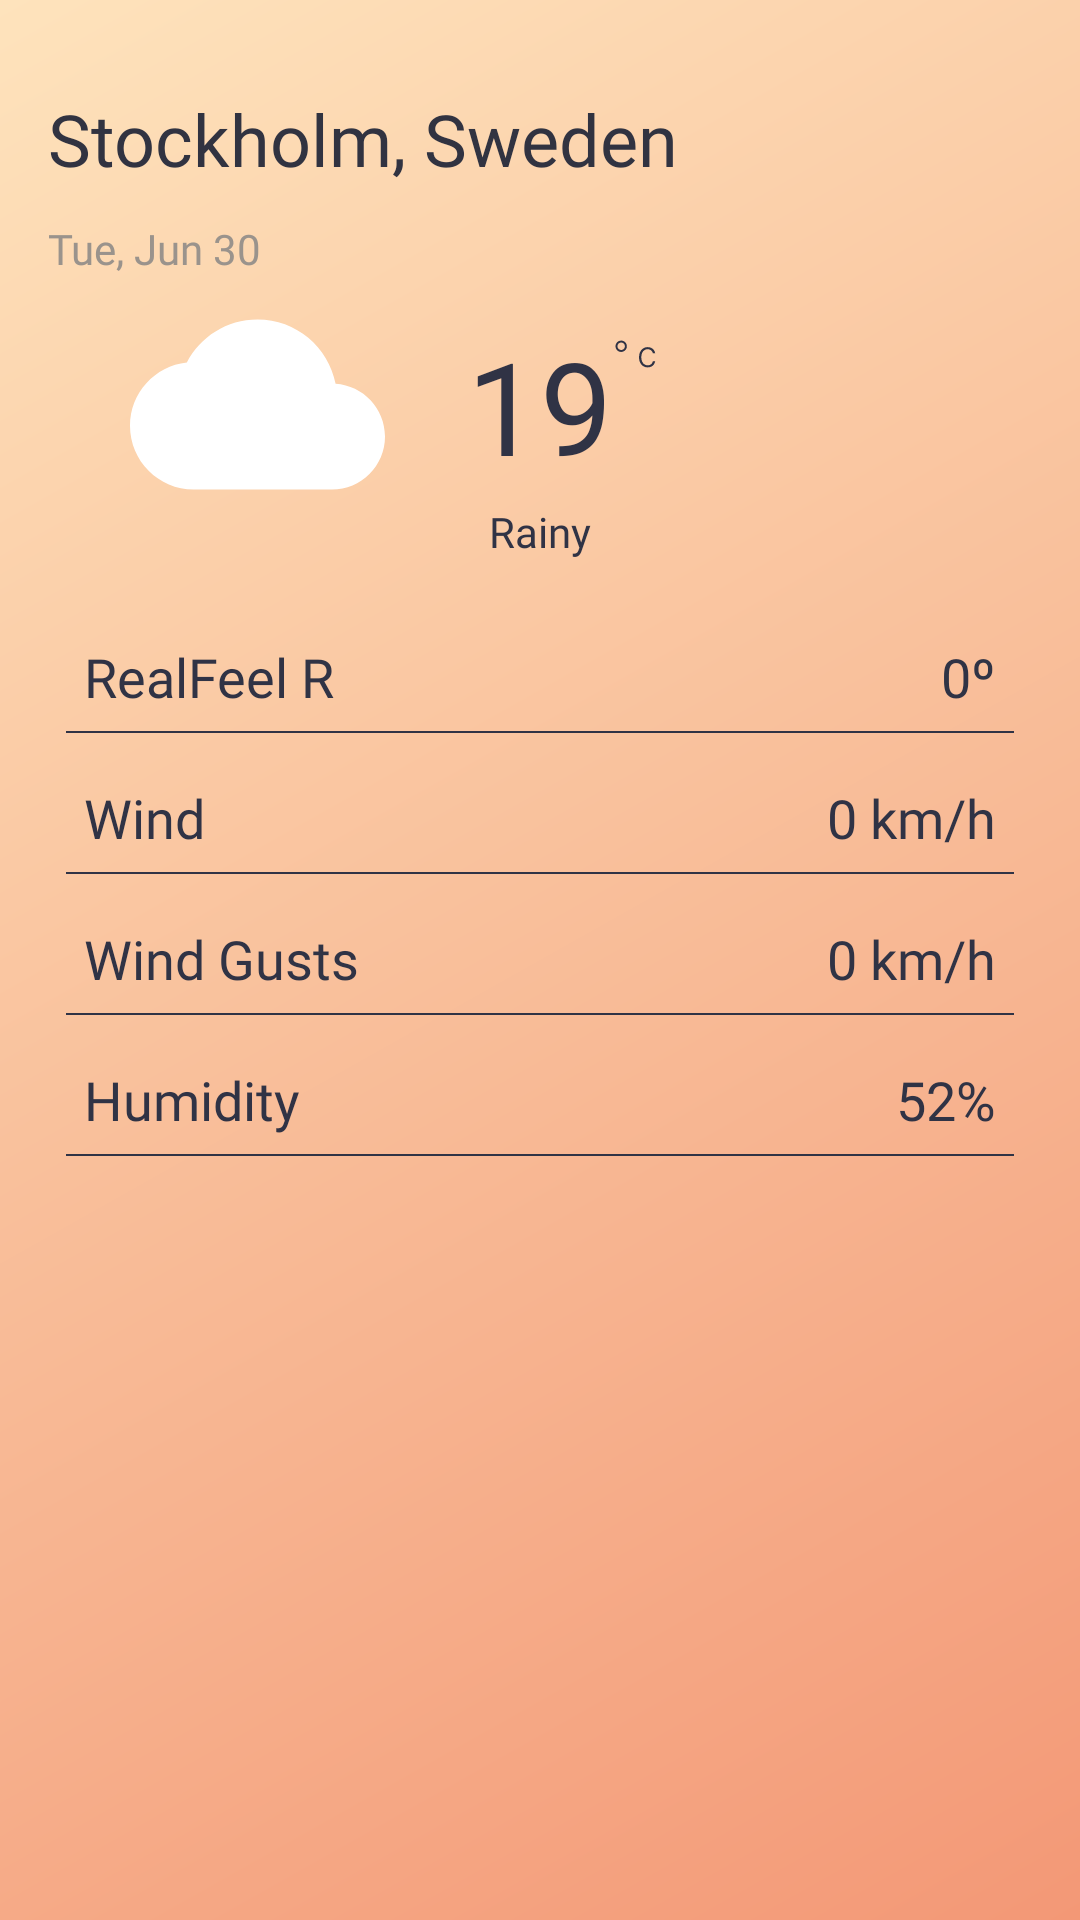

Named icons in this screenshot (1080w x 1920h) and their bounding boxes, (x1, y1, x2, y2):
cloud: (130, 319, 385, 490)
